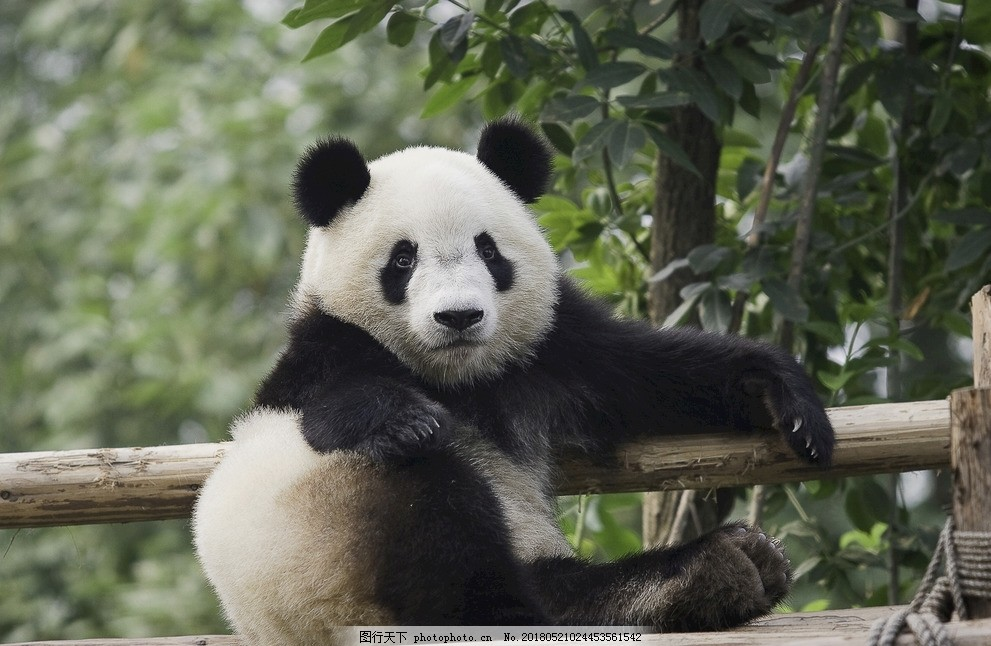panda: (169, 112, 844, 638)
